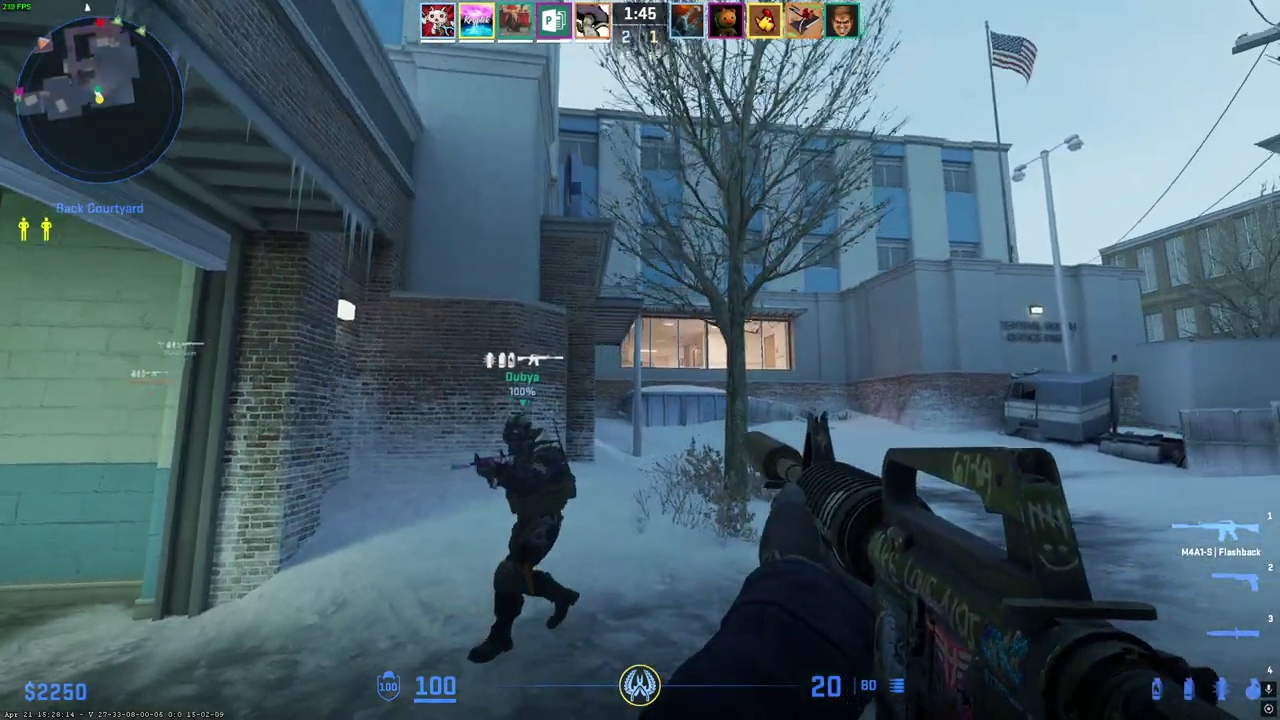CT: (475, 416, 577, 664)
